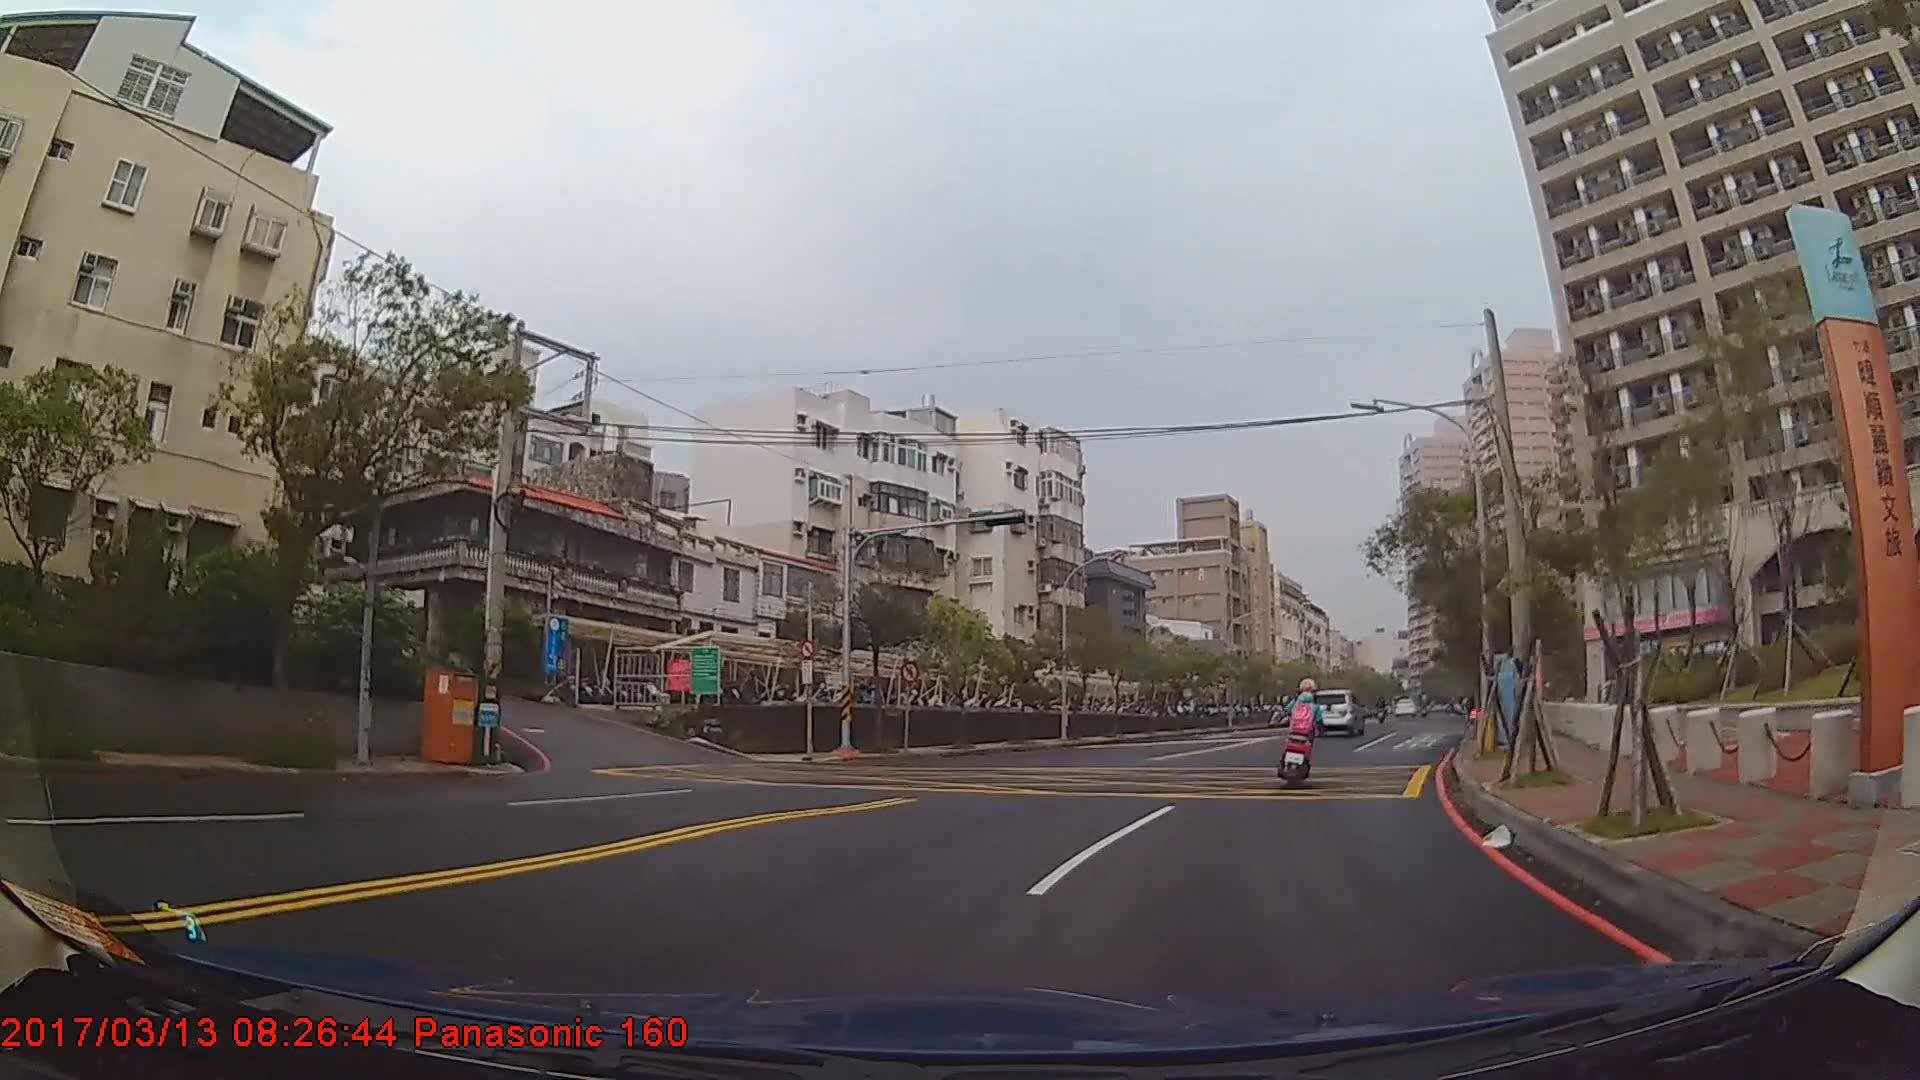rider: (1279, 679, 1327, 787)
vehicle: (1304, 687, 1368, 736)
